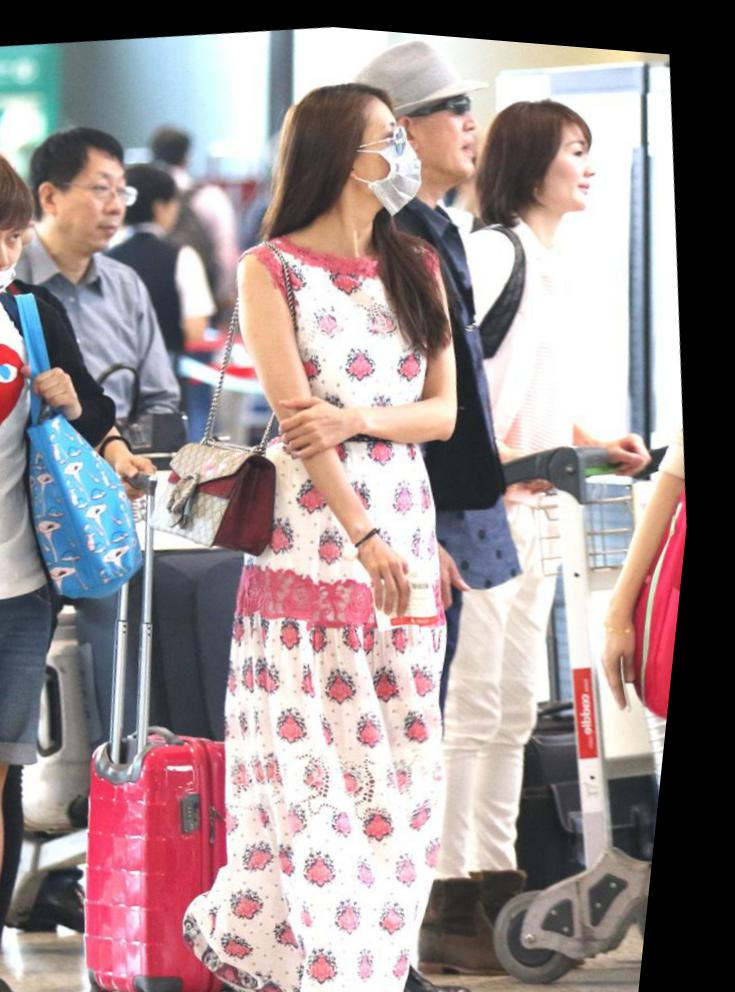NONE: (393, 87, 489, 185), (50, 166, 146, 257), (526, 129, 606, 210)
OK: (334, 104, 438, 222)
WRONG: (1, 211, 40, 305)
